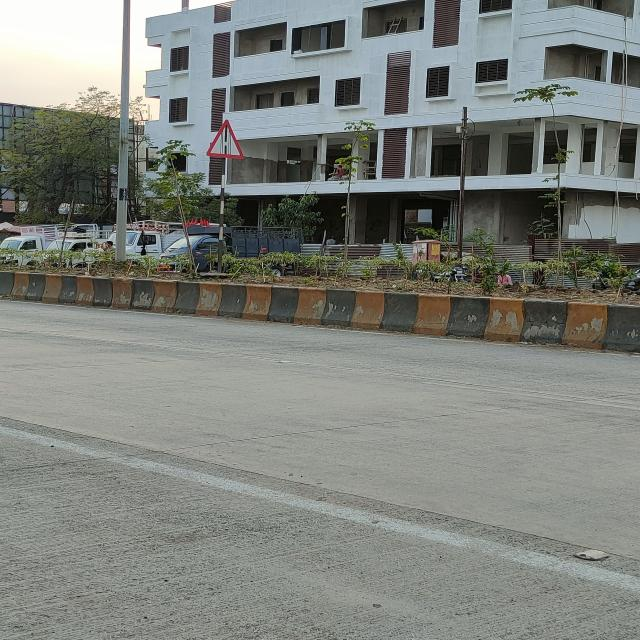ferry: (206, 119, 246, 159)
